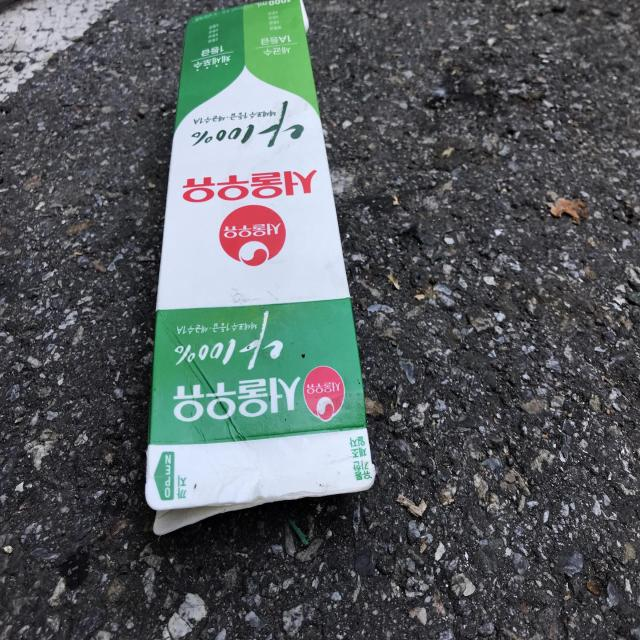paperpack: (145, 0, 375, 535)
